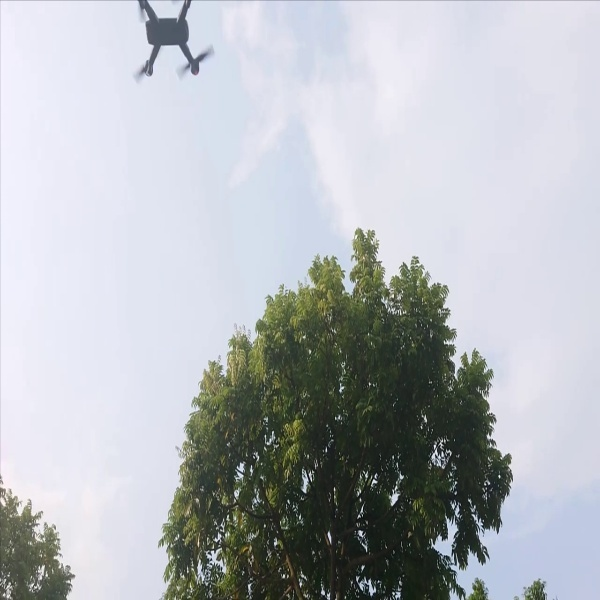drone: (114, 1, 223, 93)
